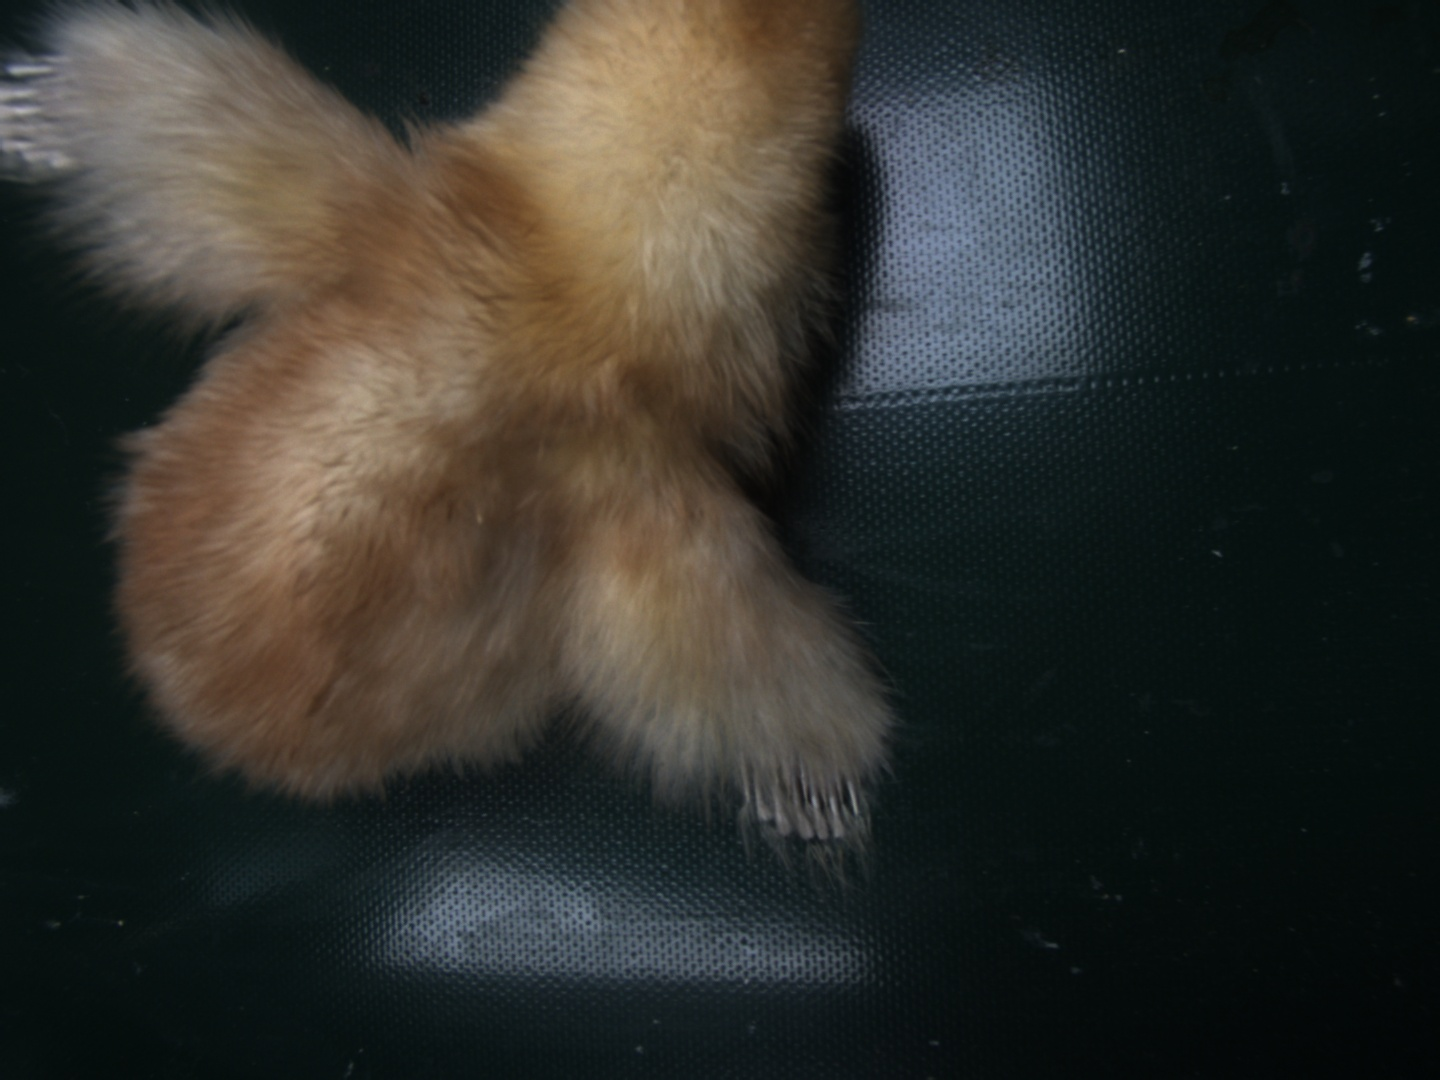female: (738, 750, 875, 852)
